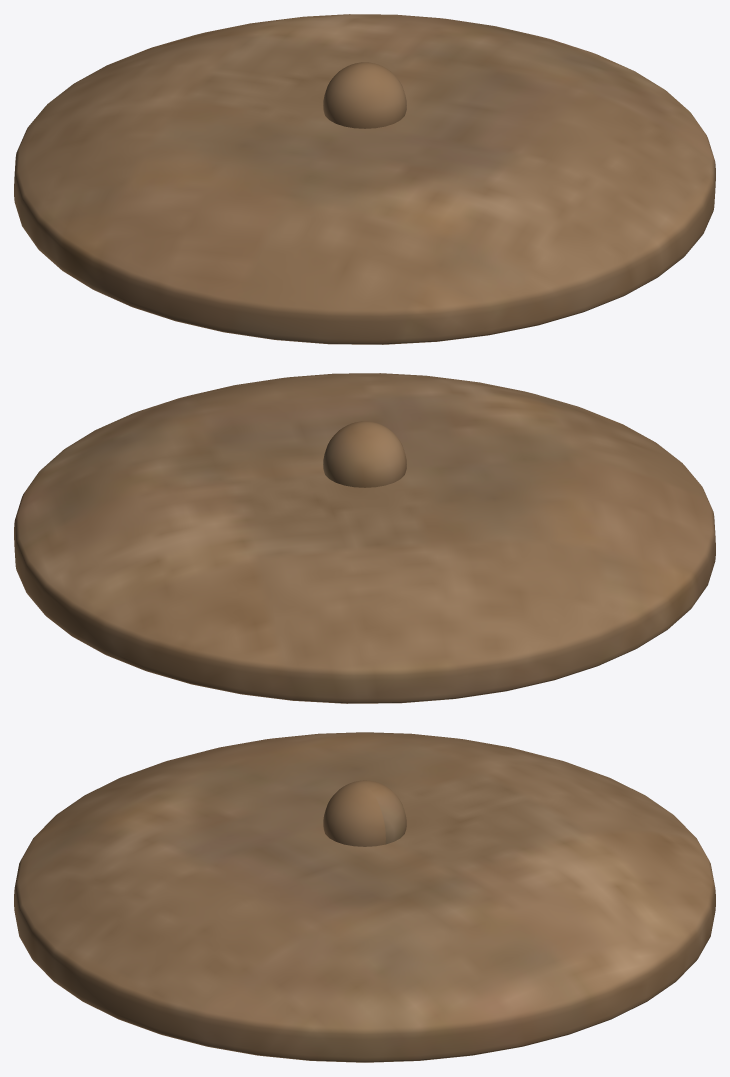
Rendered from SM_Pot_B_Lid.glb.
The picture shows the model from 3 angles, top to bottom: view 1: azimuth 30°, elevation 25°; view 2: azimuth 150°, elevation 25°; view 3: azimuth 270°, elevation 25°; orthographic projection.
Visible parts, largest first — view 1: SM_Pot_B_Lid; view 2: SM_Pot_B_Lid; view 3: SM_Pot_B_Lid.
Part boxes in pixels (<box>): SM_Pot_B_Lid: <box>14,14,715,344</box>; SM_Pot_B_Lid: <box>14,373,715,703</box>; SM_Pot_B_Lid: <box>14,732,715,1062</box>.
Size of the model in its own units: 0.2192 by 0.0458 by 0.2192.
Materials: 1 (1 with a texture image).
